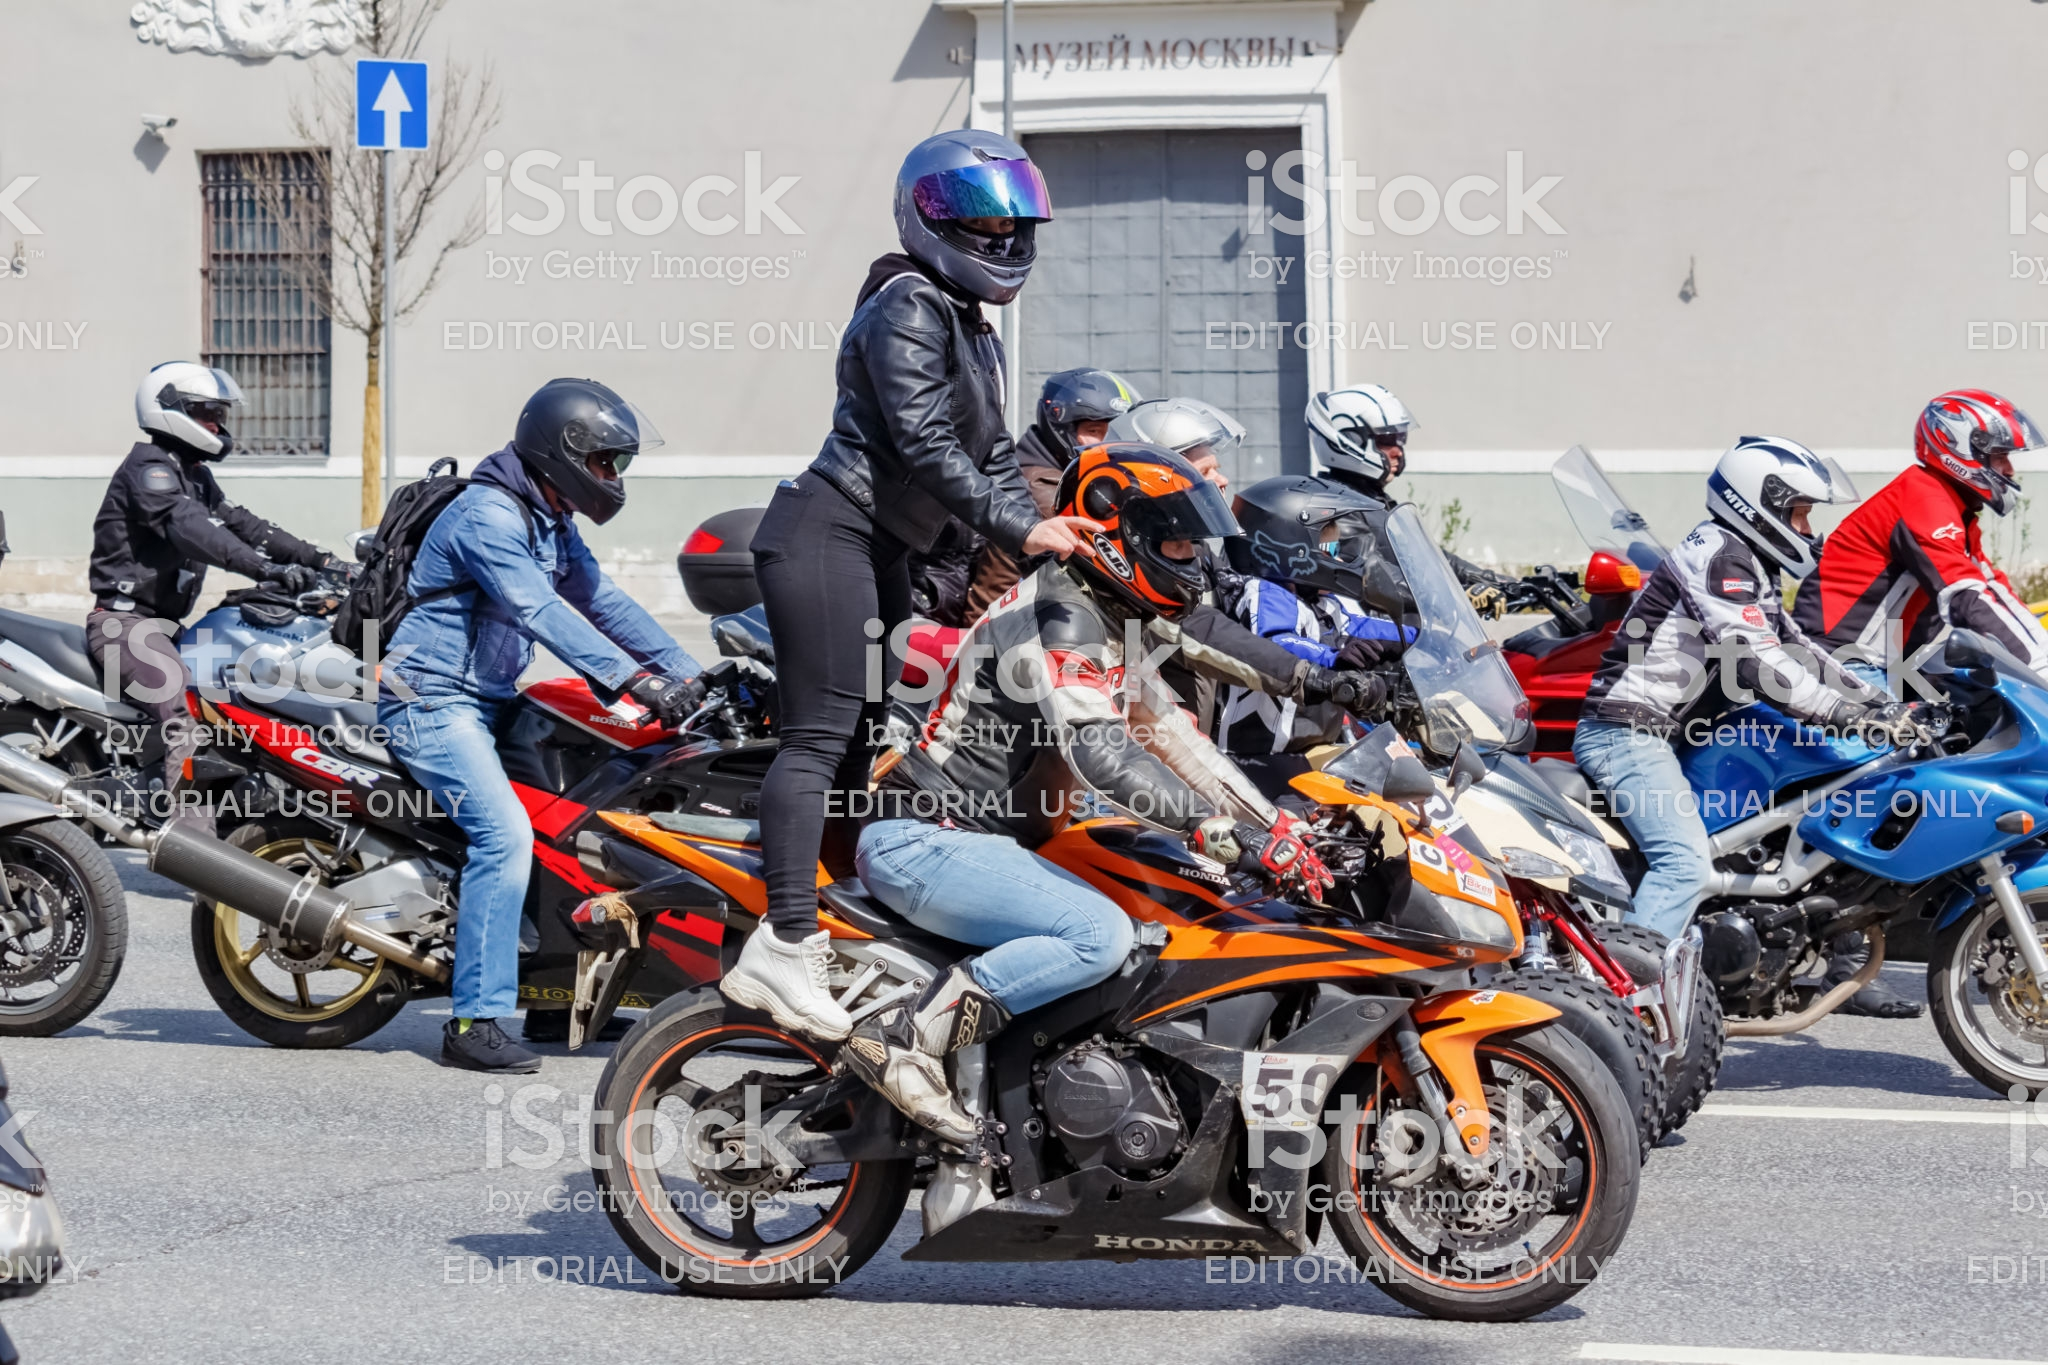helmet: (877, 126, 1064, 302), (1058, 434, 1218, 635), (1217, 456, 1386, 599), (502, 372, 649, 500), (1900, 372, 2030, 500), (1695, 436, 1839, 544), (129, 358, 259, 471), (1297, 395, 1424, 498)
